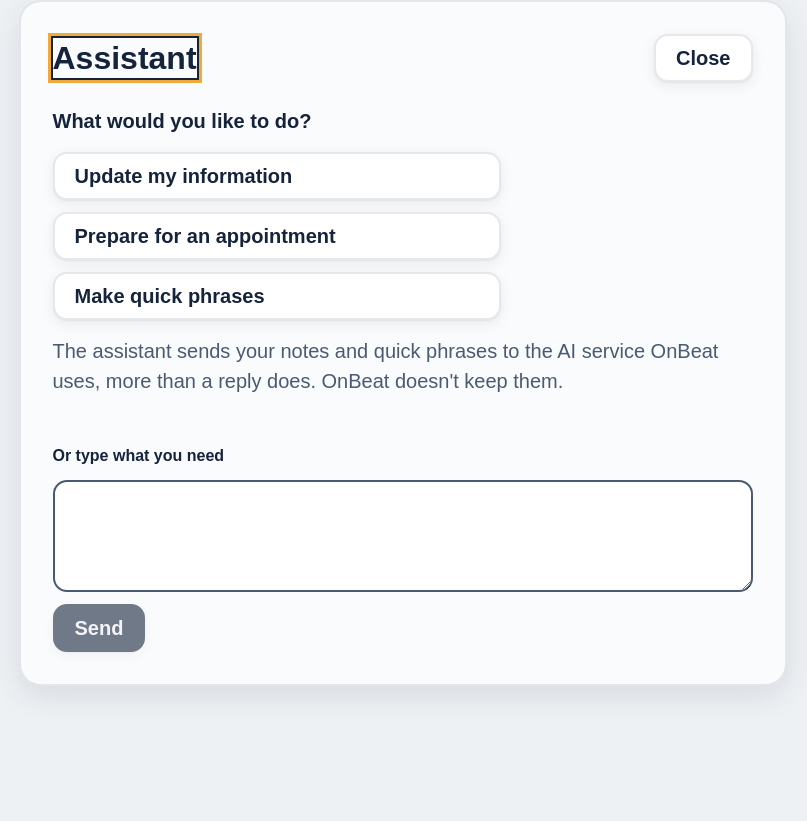
AssistantScreen › prefills Edit from the note as it is now once it has changed
Step 1. Type "I moved to Elm Road." into the text box labelled "Or type what you need" → (402, 536), box [52,480,752,592]
Then press Enter
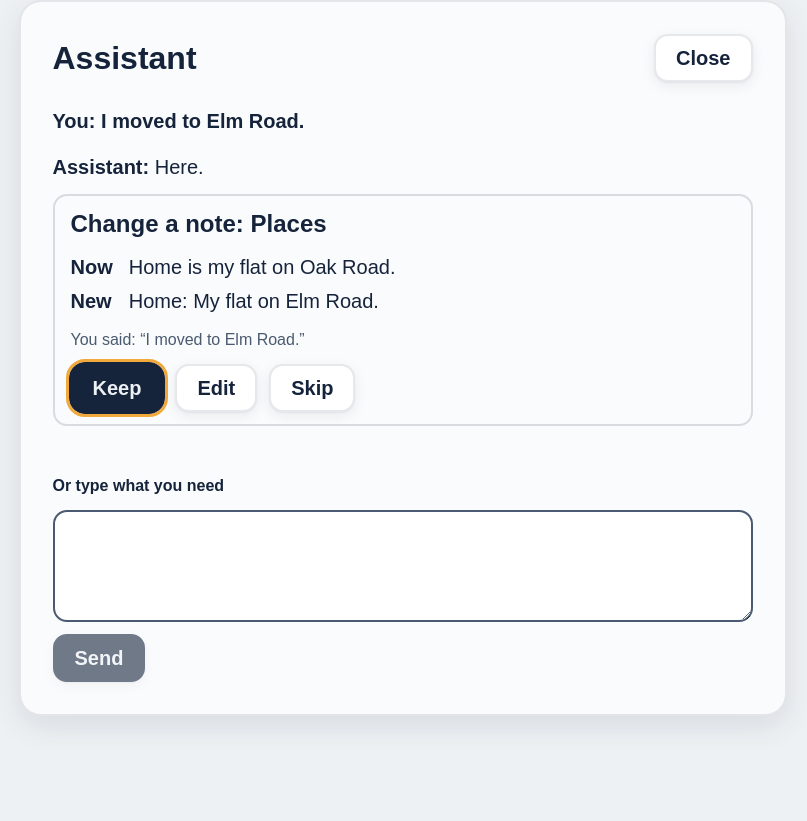
Step 2. Click the button with aria-label "Keep: Home" → (117, 388), box [70,364,163,412]
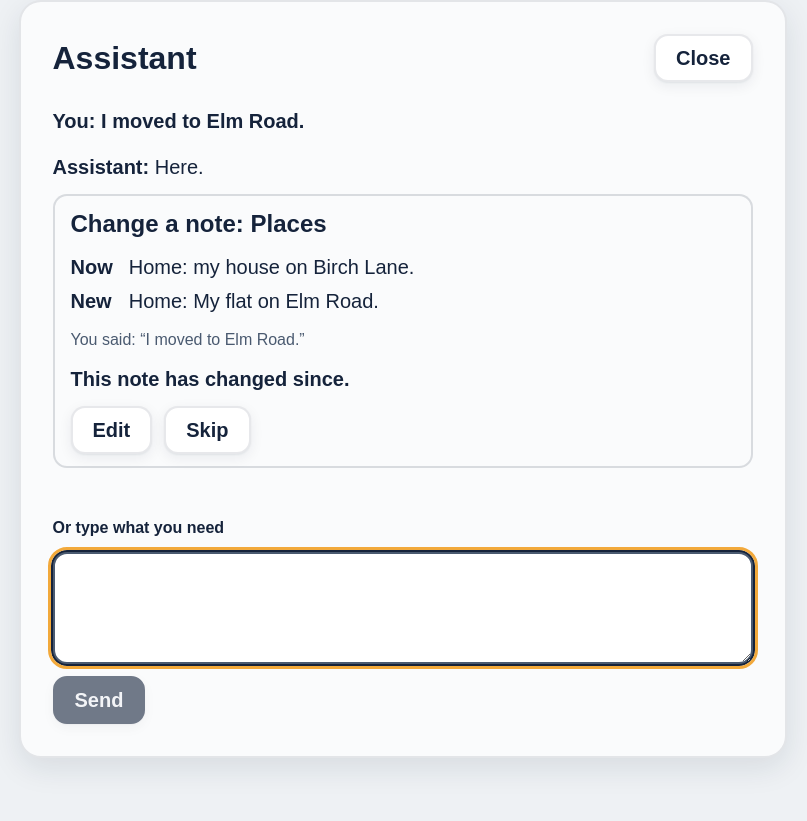
Step 3. Click the button with aria-label "Edit: Home" → (111, 430), box [70,406,152,454]
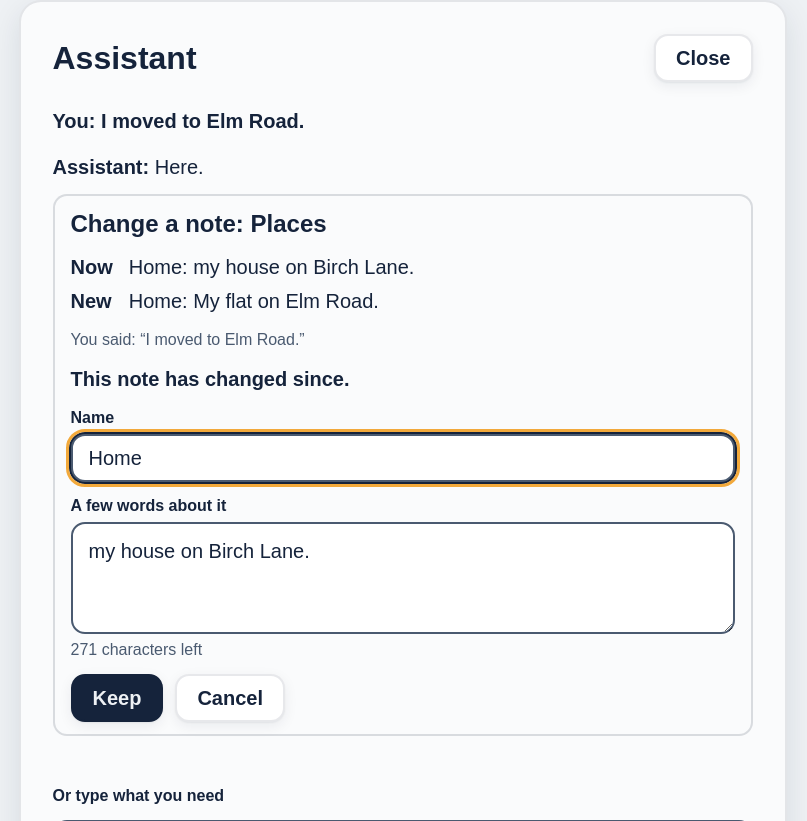
Now the field labelled "Name" holds "Home", box [70,434,734,482]
Now the text box labelled "A few words about it" holds "my house on Birch Lane.", box [70,522,734,634]
